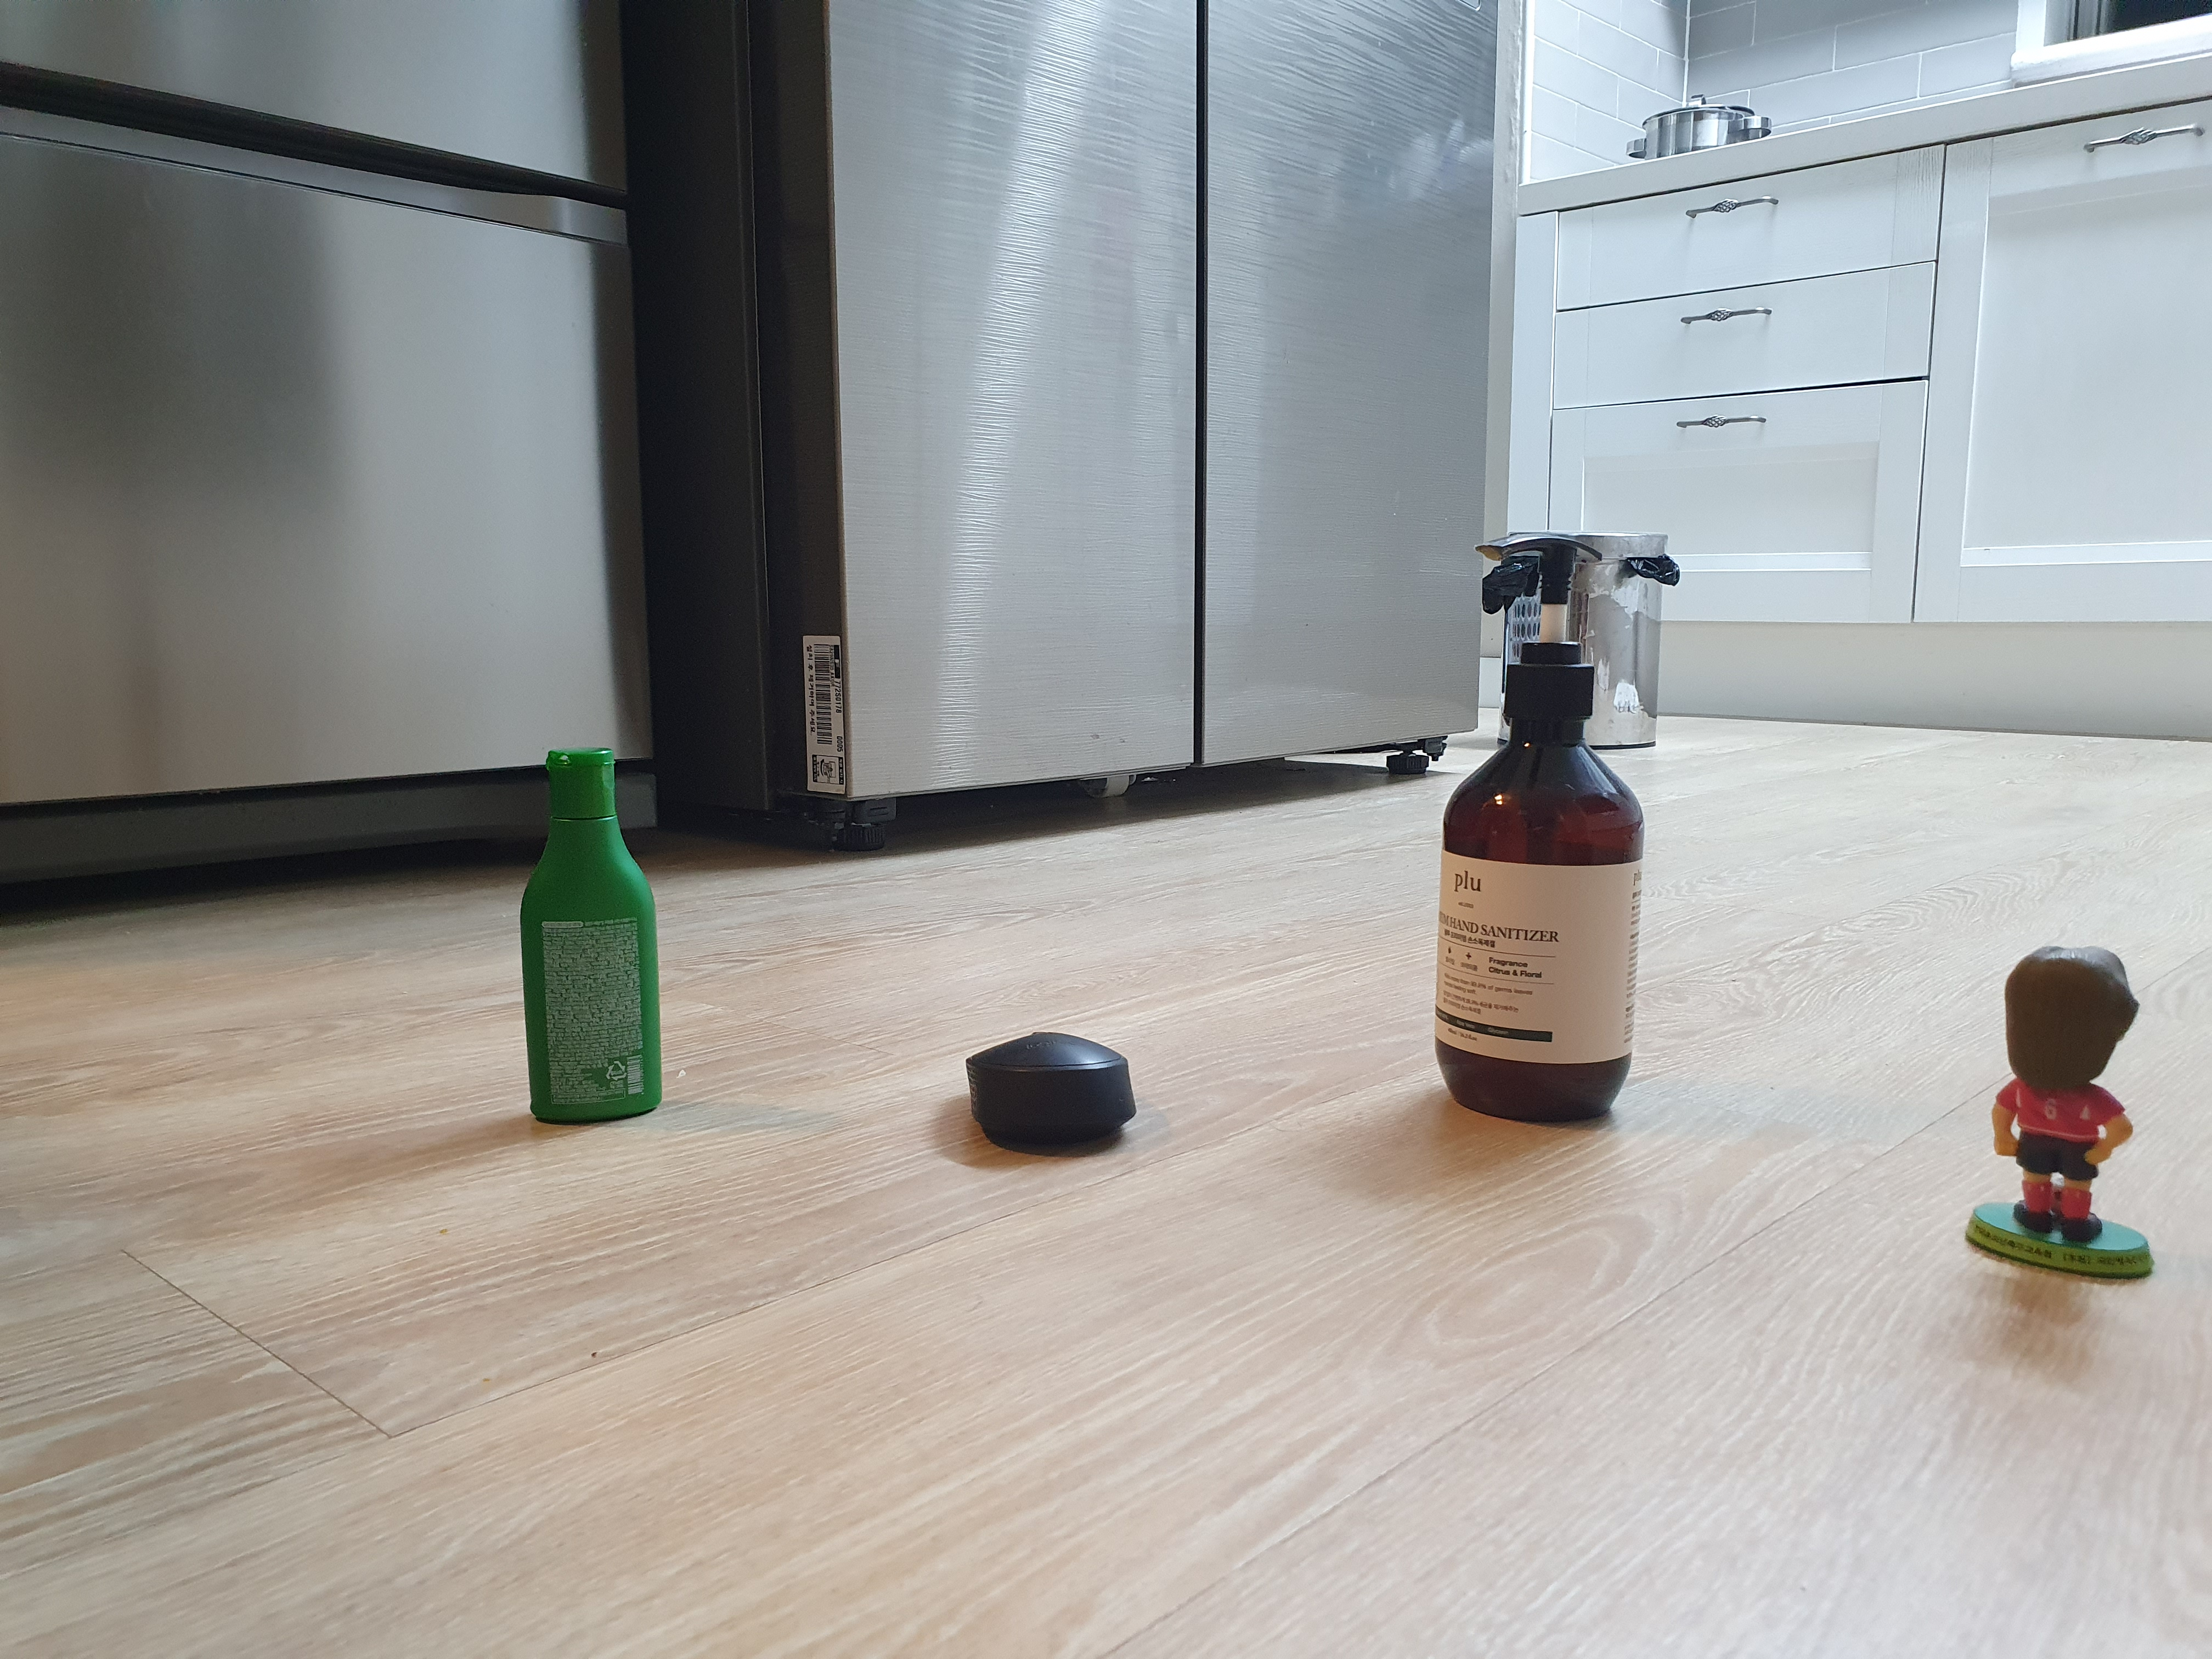bottle: (1423, 504, 1662, 1213)
mouse: (916, 988, 1216, 1188)
shampoo: (448, 702, 747, 1187)
yoo: (1916, 903, 2189, 1307)
